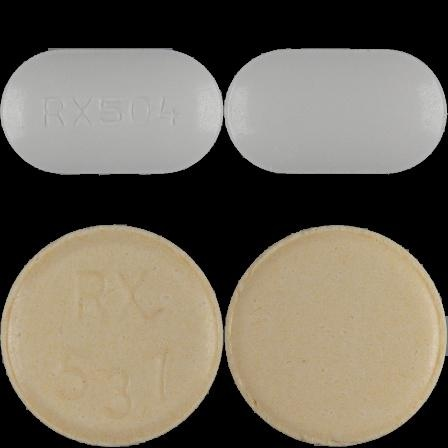63304-504: (0, 0, 224, 224)
